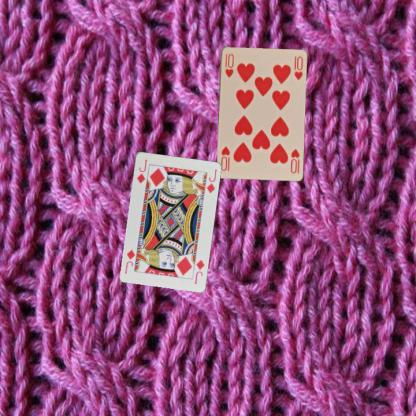10h: (288, 146, 300, 175), (223, 51, 234, 78)
Jd: (192, 256, 206, 285), (134, 157, 149, 184)
